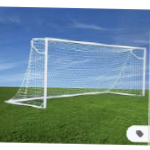goals: (4, 35, 148, 113)
